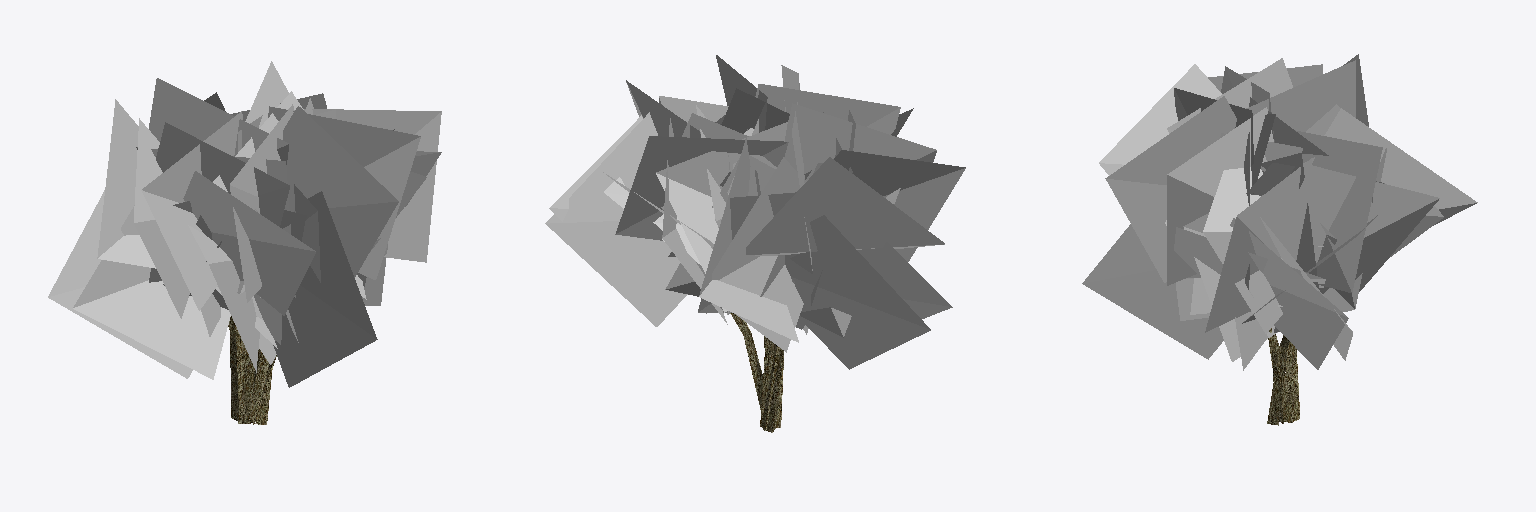
3 views of the same model, side by side, from view 1: azimuth 30°, elevation 25°; view 2: azimuth 150°, elevation 25°; view 3: azimuth 270°, elevation 25° (orthographic).
Visible parts, largest first — view 1: lilac128; view 2: lilac128; view 3: lilac128.
Part boxes in pixels (left/top/right/bottom): lilac128: left=48, top=61, right=441, bottom=424; lilac128: left=545, top=55, right=965, bottom=432; lilac128: left=1082, top=54, right=1477, bottom=425.
Bounding box in the file's own units: 5.41 × 4.66 × 4.99.
2 materials, 1 textured.